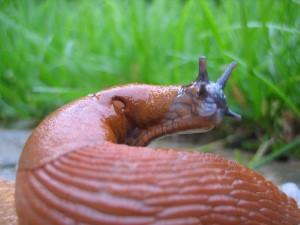slug: (5, 11, 281, 225)
